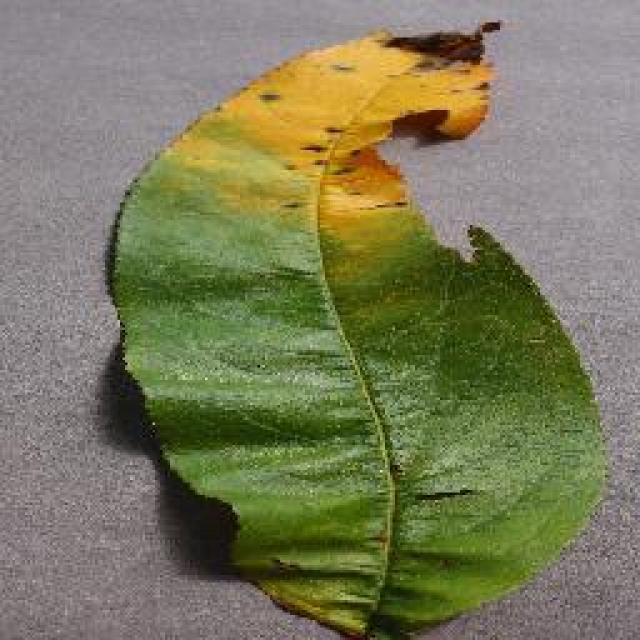Peach_Bacterial_Spot: (240, 10, 490, 255)
